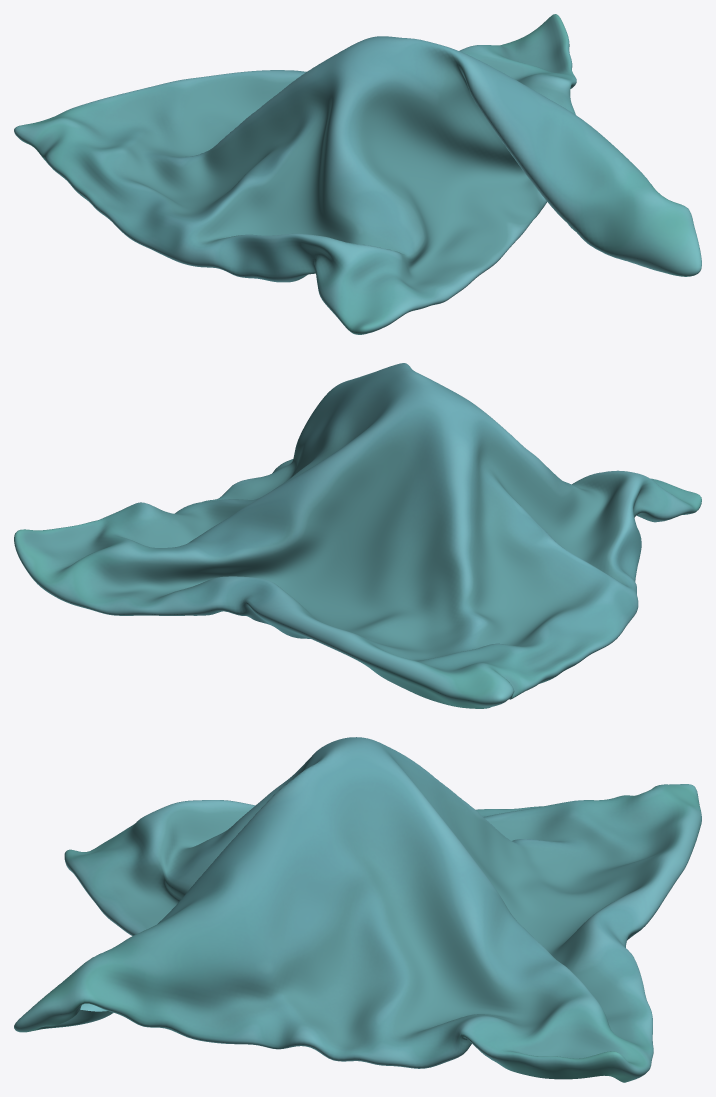
Rendered from RagDry.glb.
3 views of the same model, one above another, from view 1: azimuth 30°, elevation 25°; view 2: azimuth 150°, elevation 25°; view 3: azimuth 270°, elevation 25° (orthographic). The views are drawn at different scales.
Visible parts, largest first — view 1: Cloth; view 2: Cloth; view 3: Cloth.
Part boxes in pixels (x1,y1,x2,y2): Cloth: [14, 14, 701, 334]; Cloth: [14, 363, 701, 708]; Cloth: [14, 737, 701, 1082].
Size of the model in its own units: 0.2182 by 0.0724 by 0.2211.
Materials: 1 (1 with a texture image).
